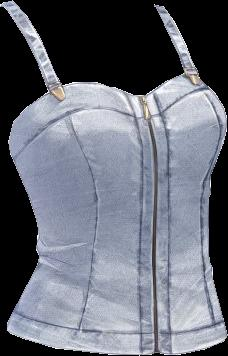Bodice: (0, 1, 226, 354)
Neckline: (12, 1, 187, 99)
Waistline: (5, 326, 227, 354)
